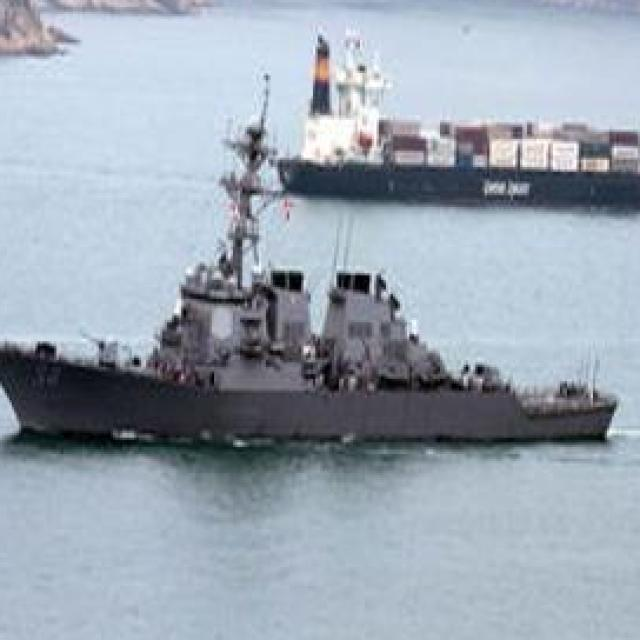cargoship: (285, 19, 640, 207)
navalvessels: (0, 122, 621, 456)
